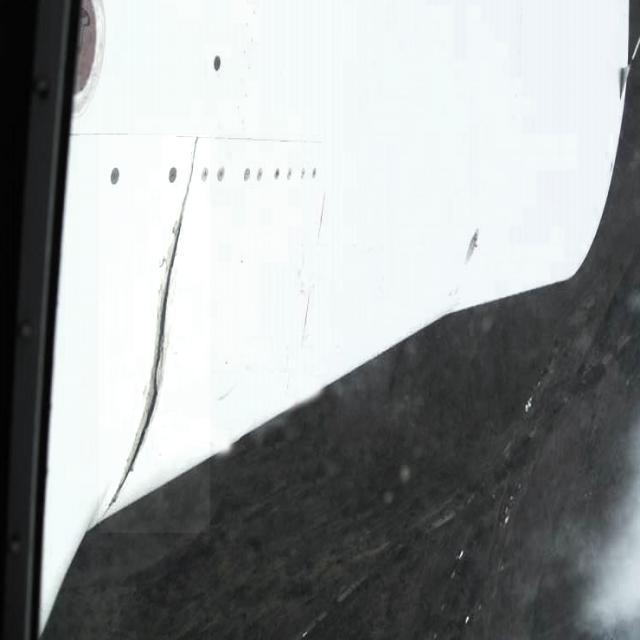crack: (100, 136, 211, 534)
